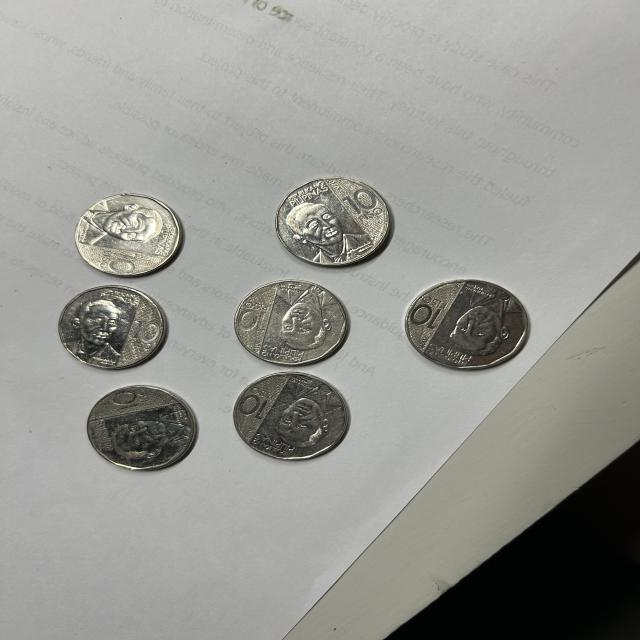10_New_Front: (334, 183, 382, 222), (96, 244, 140, 280), (409, 293, 443, 338), (108, 388, 156, 414), (128, 316, 156, 355), (244, 387, 274, 422), (241, 295, 266, 336)
